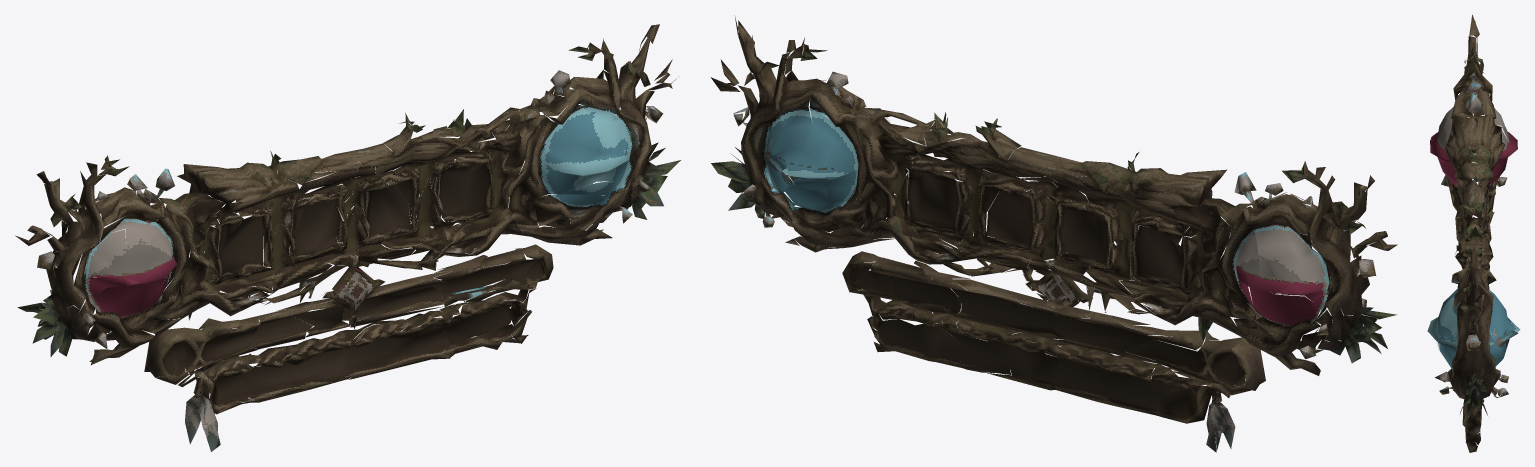
File: hud_inti.glb
3 views of the same model, side by side, from view 1: azimuth 30°, elevation 25°; view 2: azimuth 150°, elevation 25°; view 3: azimuth 270°, elevation 25° (orthographic). The views are drawn at different scales.
Visible parts, largest first — view 1: tripo_node_09d4f8a3-4723-4662-b436-24ebf49165c8; view 2: tripo_node_09d4f8a3-4723-4662-b436-24ebf49165c8; view 3: tripo_node_09d4f8a3-4723-4662-b436-24ebf49165c8.
Part boxes in pixels (bbox=[...]): tripo_node_09d4f8a3-4723-4662-b436-24ebf49165c8: bbox=[15, 24, 680, 451]; tripo_node_09d4f8a3-4723-4662-b436-24ebf49165c8: bbox=[710, 15, 1397, 452]; tripo_node_09d4f8a3-4723-4662-b436-24ebf49165c8: bbox=[1427, 14, 1520, 452].
Bounding box in the file's own units: 2.15 × 0.995 × 0.3125.
1 material, 1 textured.
